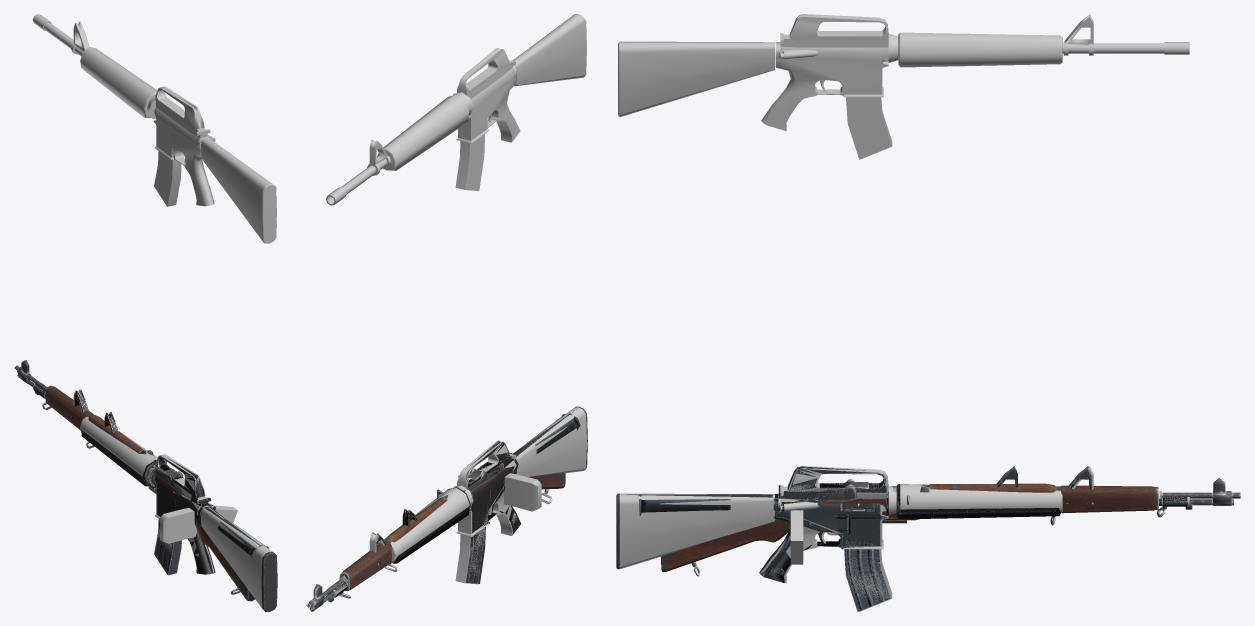
The picture shows the model from 3 angles, left to right: view 1: azimuth 30°, elevation 25°; view 2: azimuth 150°, elevation 25°; view 3: azimuth 270°, elevation 25°; orthographic projection. The views are drawn at different scales.
Visible parts, largest first — view 1: M16A2_LP, M16A2, M1_LP, M16A1, M16A2_LP.001, M733; view 2: M16A2_LP, M1_LP, M16A1, M16A2, M16A2_LP.001, M733; view 3: M16A2_LP, M1_LP, M16A2, M16A1, M733.
Part boxes in pixels (x1=…): M16A2_LP: x1=33, y1=14, x2=276, y2=610; M16A2: x1=34, y1=383, x2=277, y2=611; M1_LP: x1=14, y1=360, x2=254, y2=601; M16A1: x1=34, y1=389, x2=277, y2=611; M16A2_LP.001: x1=160, y1=505, x2=237, y2=543; M733: x1=104, y1=411, x2=268, y2=560; M16A2_LP: x1=326, y1=14, x2=586, y2=598; M1_LP: x1=306, y1=468, x2=565, y2=611; M16A1: x1=328, y1=441, x2=587, y2=597; M16A2: x1=328, y1=406, x2=587, y2=593; M16A2_LP.001: x1=458, y1=471, x2=541, y2=511; M733: x1=402, y1=413, x2=580, y2=526; M16A2_LP: x1=618, y1=14, x2=1189, y2=611; M1_LP: x1=661, y1=478, x2=1240, y2=576; M16A2: x1=616, y1=466, x2=1187, y2=601; M16A1: x1=616, y1=470, x2=1187, y2=611; M733: x1=639, y1=466, x2=1017, y2=515.
Bounding box in the file's own units: 0.1134 × 0.6762 × 0.7095.
